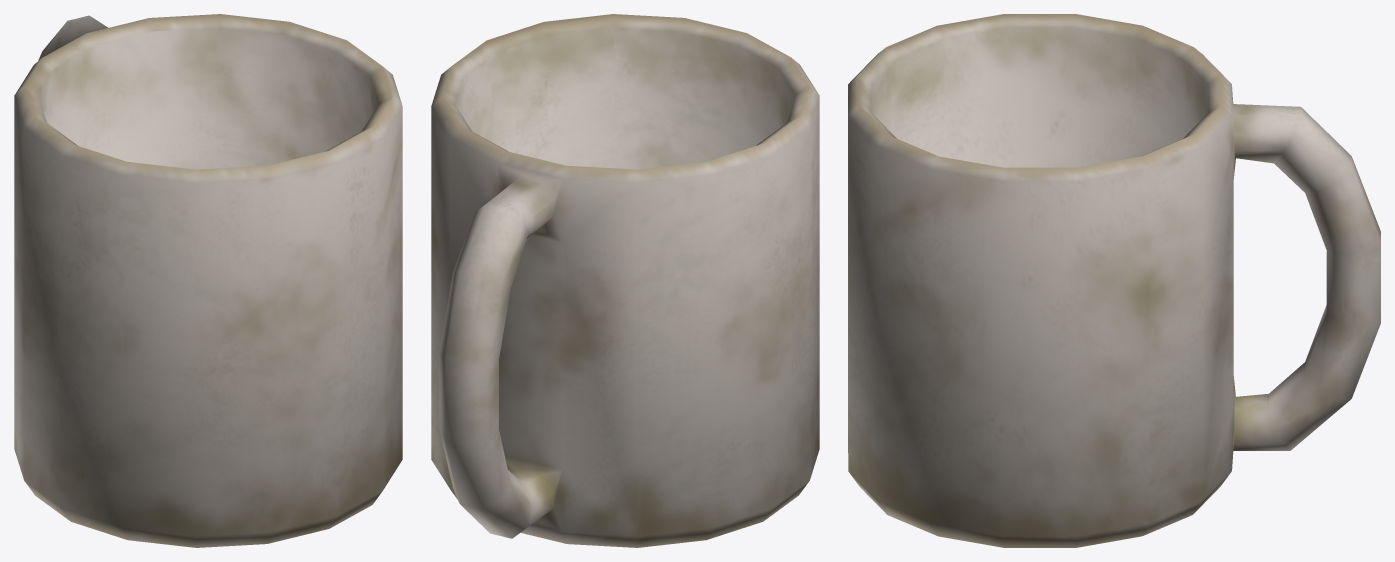
File: Mug.glb
3 renders of one model, left to right at view 1: azimuth 30°, elevation 25°; view 2: azimuth 150°, elevation 25°; view 3: azimuth 270°, elevation 25°, orthographic.
Parts seen in each view (by area): view 1: SM_Mug; view 2: SM_Mug; view 3: SM_Mug.
Boxes of the visible parts, <box> form: SM_Mug: <box>14,14,402,547</box>; SM_Mug: <box>431,14,819,547</box>; SM_Mug: <box>848,14,1380,547</box>.
Bounding box in the file's own units: 0.114 × 0.1248 × 0.1582.
1 material, 1 textured.
